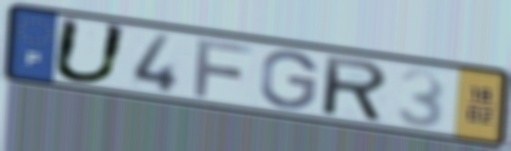3: (395, 66, 449, 130)
4: (129, 30, 181, 95)
F: (191, 35, 256, 100)
G: (257, 48, 321, 112)
R: (322, 53, 391, 125)
U: (48, 15, 132, 86)
